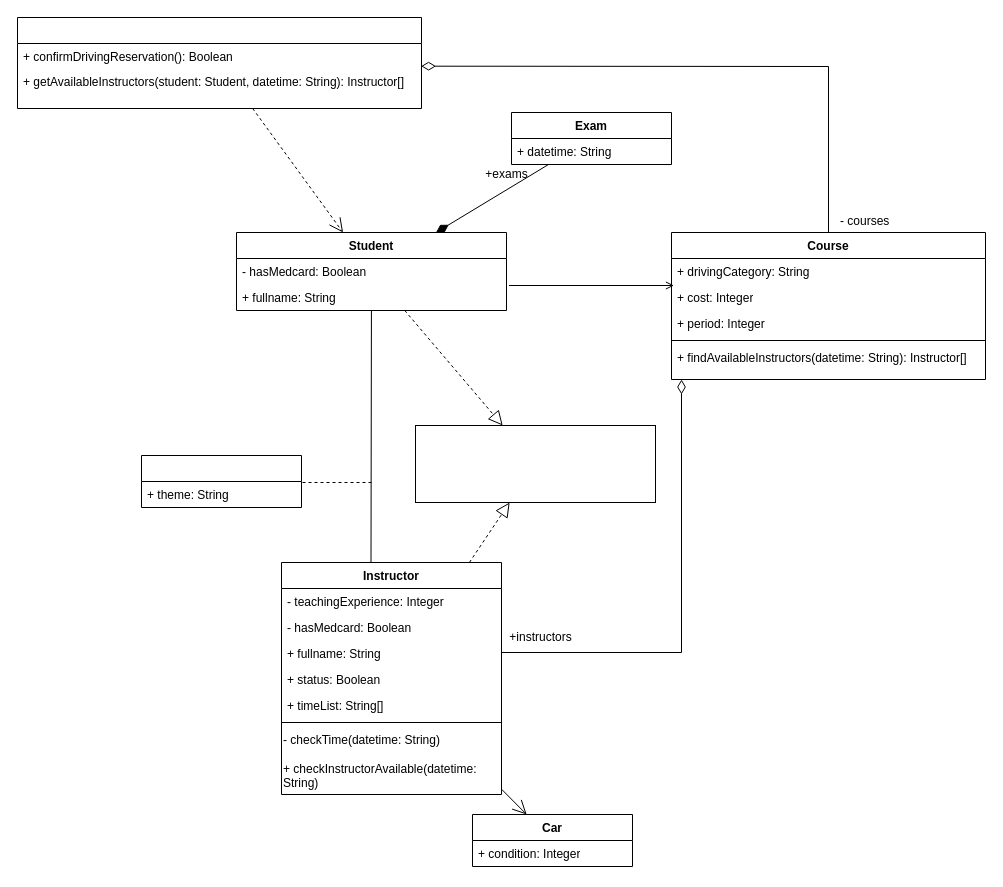
This 1003x887 diagram has some shape labels left out. Here are the shapes that lost their labels. From the top down, the box of each, then its label:
(16, 16, 422, 108): Controller
(140, 454, 302, 508): Lesson
(414, 424, 656, 502): «interface» ISchoolCommunication + checkMedcard()
